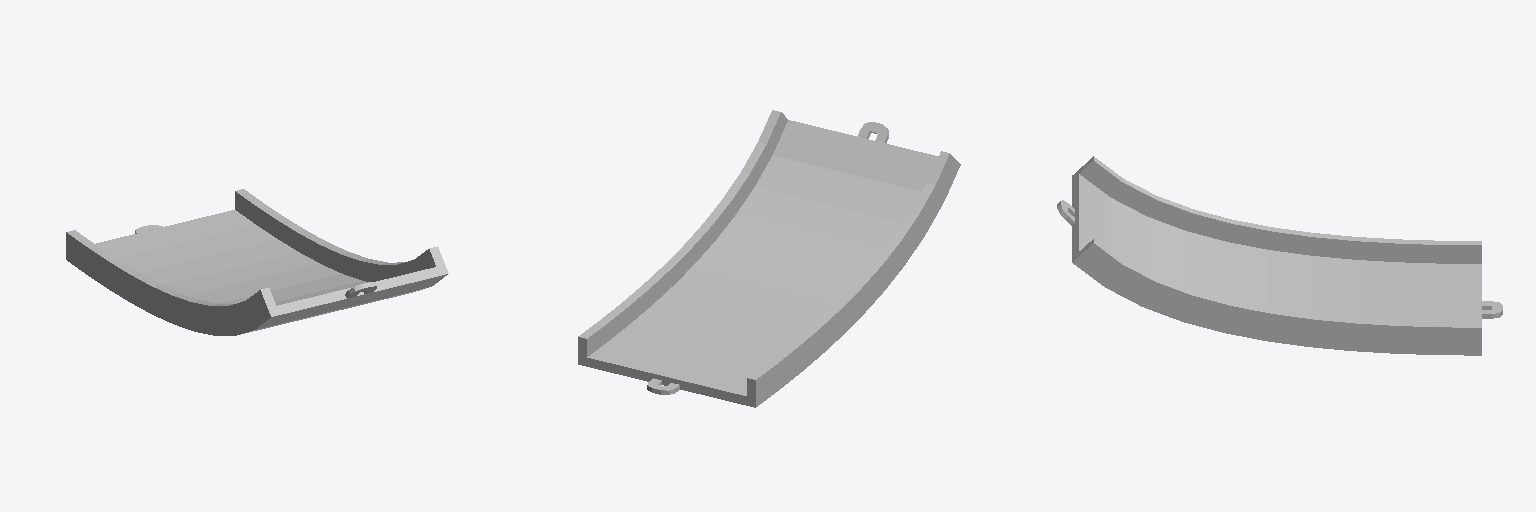
File: track-road-wide-straight-hill-beginning.obj
The picture shows the model from 3 angles: view 1: azimuth 30°, elevation 25°; view 2: azimuth 150°, elevation 25°; view 3: azimuth 270°, elevation 25°; orthographic projection.
Parts seen in each view (by area): view 1: track-road-wide-straight-hill-beginning; view 2: track-road-wide-straight-hill-beginning; view 3: track-road-wide-straight-hill-beginning.
Part boxes in pixels (bbox=[...]): track-road-wide-straight-hill-beginning: bbox=[66, 189, 448, 335]; track-road-wide-straight-hill-beginning: bbox=[578, 110, 960, 407]; track-road-wide-straight-hill-beginning: bbox=[1057, 156, 1502, 355].
Bounding box in the file's own units: 2 × 1.21 × 4.34.